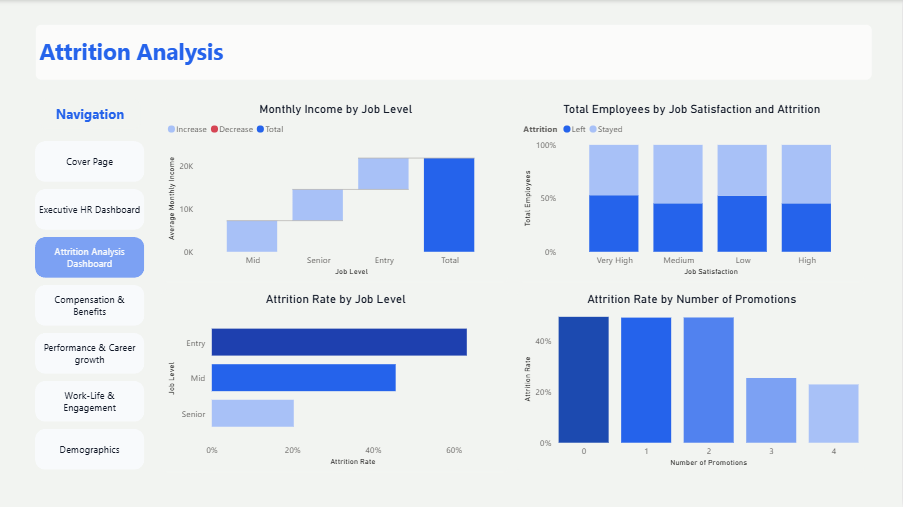

This screenshot's page, from the dashboard's own definition file:
{"tool":"powerbi","page":{"name":"Attrition Analysis Dashboard","canvas":[1280,720],"ordinal":2},"visuals":[{"type":"hundredPercentStackedColumnChart","fields":{"Category":["HR-Employee.Job Satisfaction"],"Series":["HR-Employee.Attrition"],"Y":["HR-Employee.Total Employees"]},"box":[734,140.6,493.4,259.5],"z":0},{"type":"columnChart","fields":{"Y":["HR-Employee.Attrition Rate"],"Category":["HR-Employee.Number of Promotions"]},"box":[734,409.6,493.4,260.9],"z":1000},{"type":"textbox","box":[50.9,33.4,1186.6,79.5],"z":2000},{"type":"pageNavigator","box":[51.7,200,155,466.7],"z":3000},{"type":"clusteredBarChart","fields":{"Y":["HR-Employee.Attrition Rate"],"Category":["HR-Employee.Job Level"]},"box":[229.8,409.6,493.4,259.5],"z":4000},{"type":"waterfallChart","title":"Monthly Income by Job Level","fields":{"Category":["HR-Employee.Job Level"],"Y":["HR-Employee.Average Monthly Income"]},"box":[229.8,140.6,493.4,259.5],"z":5000},{"type":"textbox","box":[58.3,140,141.7,43.3],"z":6000}]}

Visuals, with their boxes in screenshot pixels (x1, y1, x2, y2), scaled from the page's 1280x720 canvas onto the 903x507 screenshot:
hundredPercentStackedColumnChart - HR-Employee.Job Satisfaction x HR-Employee.Attrition: left=518, top=99, right=866, bottom=282
columnChart - HR-Employee.Attrition Rate x HR-Employee.Number of Promotions: left=518, top=288, right=866, bottom=472
textbox: left=36, top=24, right=873, bottom=80
pageNavigator: left=36, top=141, right=146, bottom=469
clusteredBarChart - HR-Employee.Attrition Rate x HR-Employee.Job Level: left=162, top=288, right=510, bottom=471
"Monthly Income by Job Level" waterfallChart: left=162, top=99, right=510, bottom=282
textbox: left=41, top=99, right=141, bottom=129
